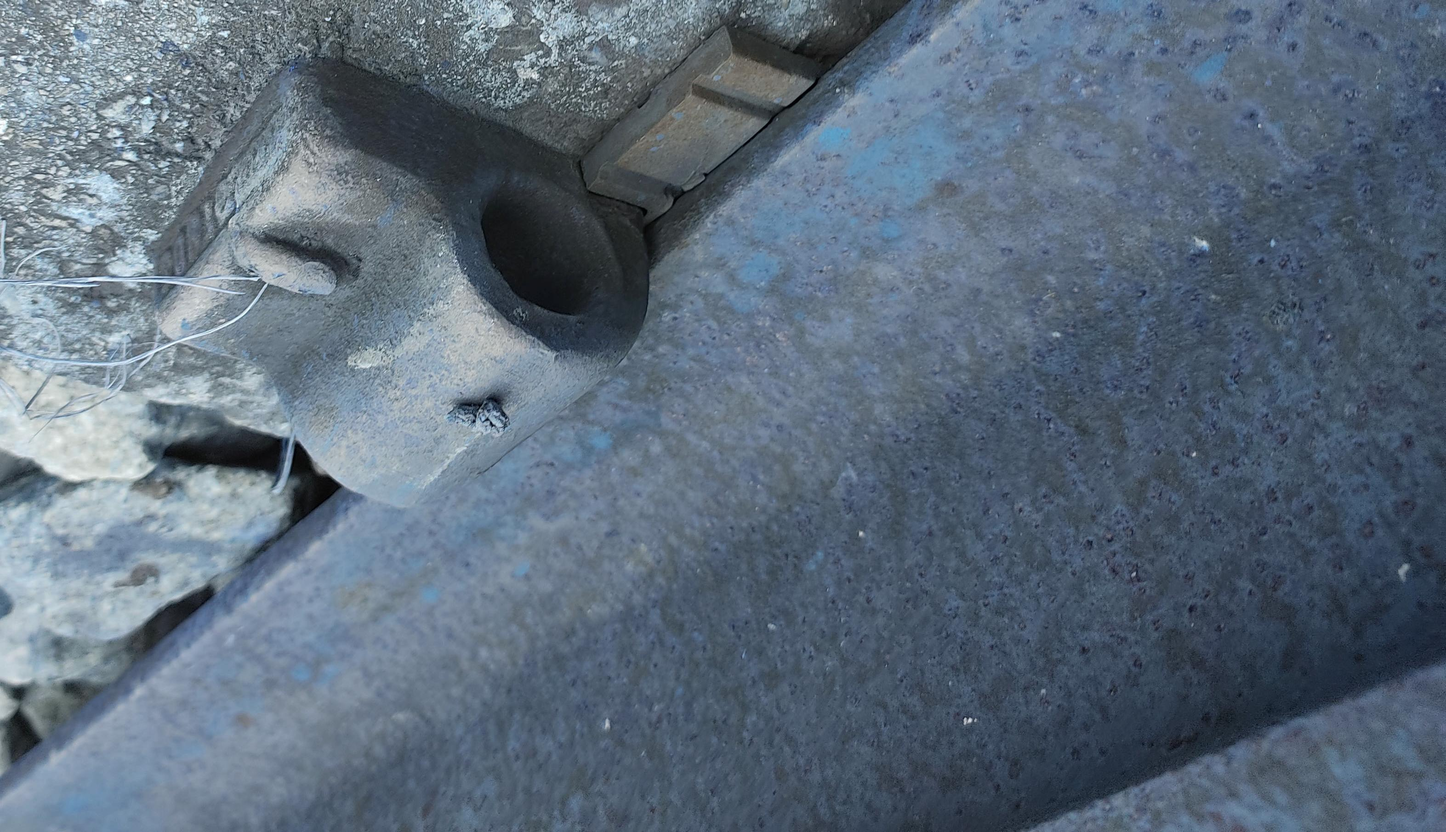loss: (148, 79, 669, 537)
